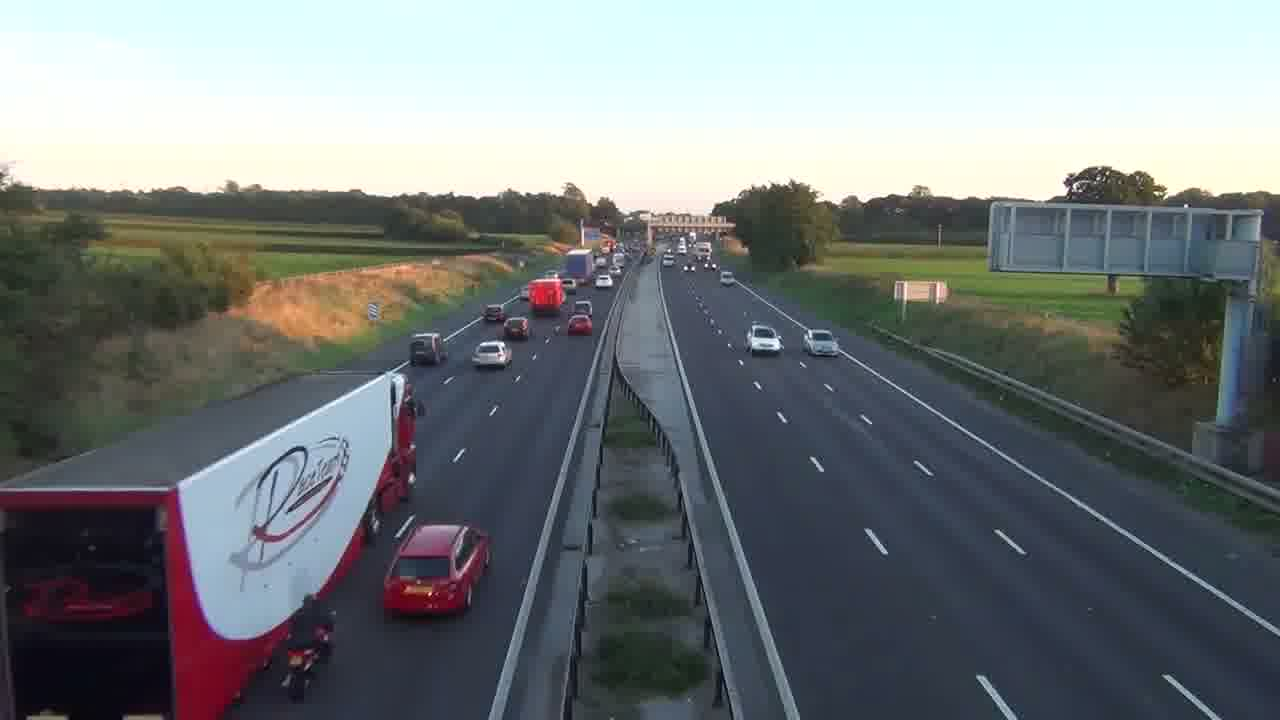car: (381, 518, 493, 619), (746, 324, 784, 355), (472, 339, 511, 368), (803, 329, 840, 357), (568, 315, 592, 336)
motorcycle: (281, 647, 319, 701)
truck: (1, 367, 418, 715), (558, 248, 596, 287), (409, 332, 448, 366)
